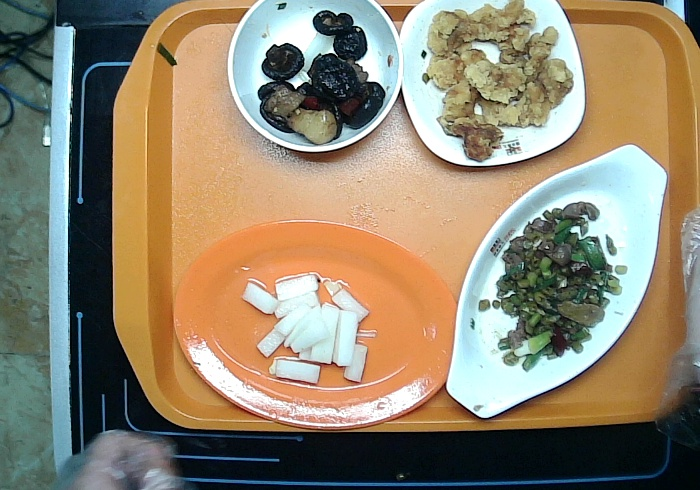NLDX-Bai_Se_Xiao_Fang_Die: (400, 1, 585, 166)
NLDX-Fan_Wan: (228, 1, 403, 156)
NLDX-Ju_Se_Pan: (173, 217, 458, 431)
NLDX-Yu_Pan: (445, 143, 669, 419)
